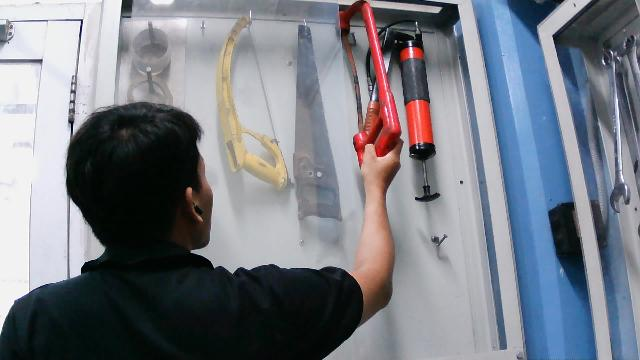gergaji_besi: (334, 0, 408, 177)
